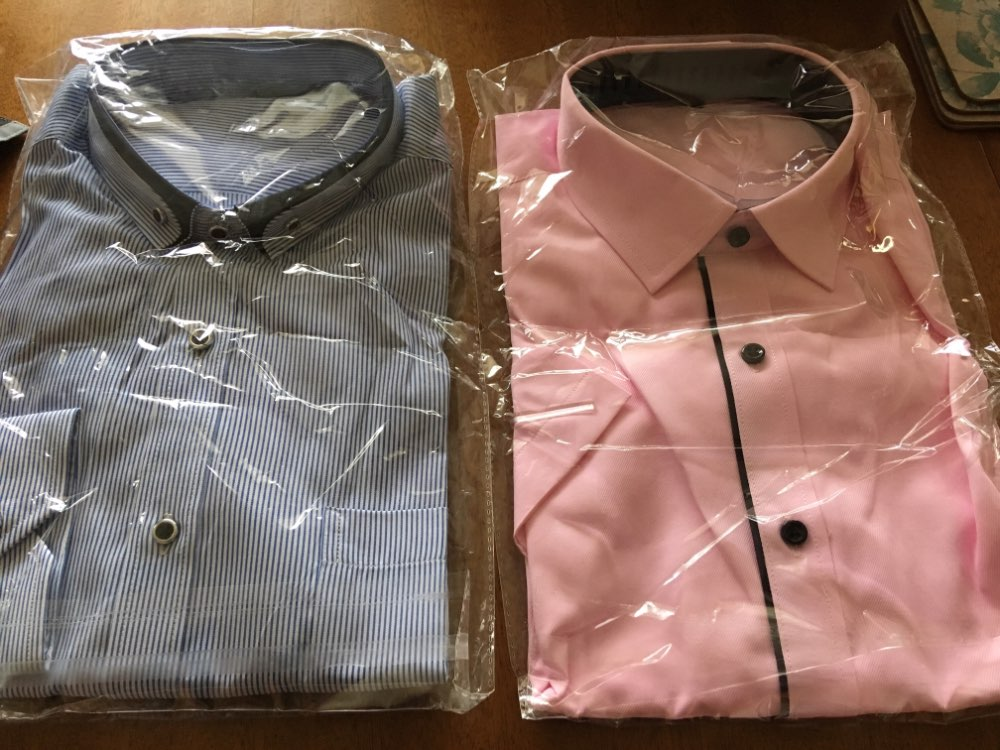shirts: (489, 64, 984, 727), (85, 42, 489, 715)
